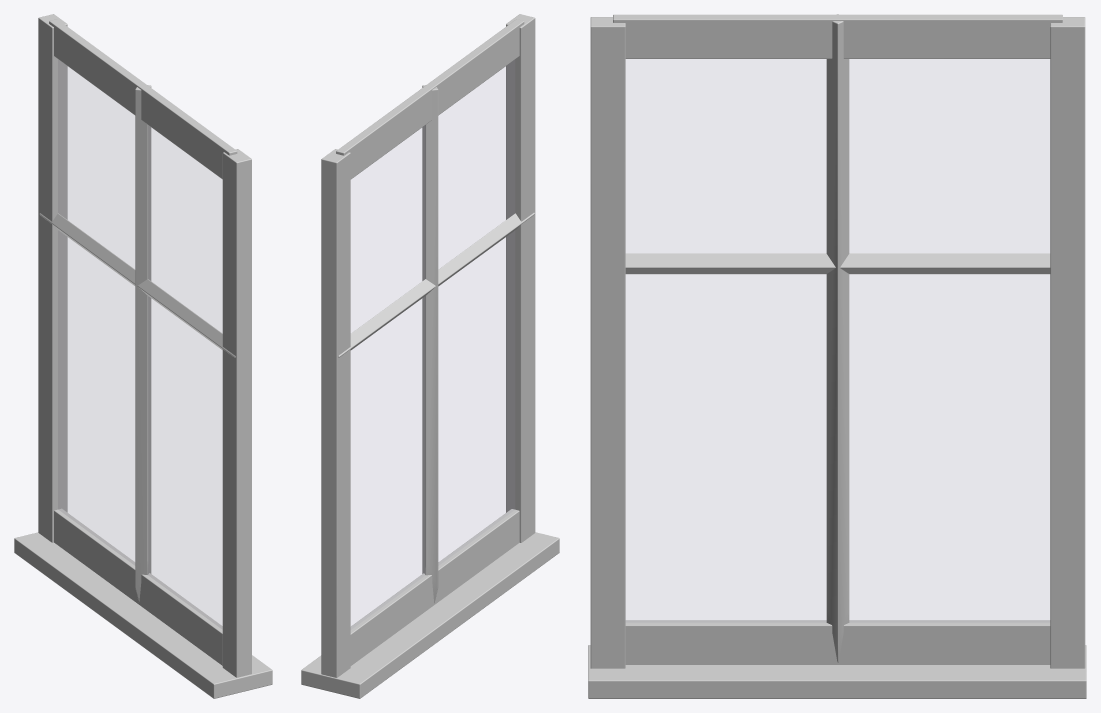
The model's file is Window_B.fbx.
The picture shows the model from 3 angles, left to right: view 1: azimuth 30°, elevation 25°; view 2: azimuth 150°, elevation 25°; view 3: azimuth 270°, elevation 25°; orthographic projection. The views are drawn at different scales.
Parts seen in each view (by area): view 1: Window_B; view 2: Window_B; view 3: Window_B.
Boxes of the visible parts, <box> form: Window_B: <box>14,14,272,698</box>; Window_B: <box>301,14,559,698</box>; Window_B: <box>588,14,1086,698</box>.
Size of the model in its own units: 0.174 by 1.02 by 1.5.
